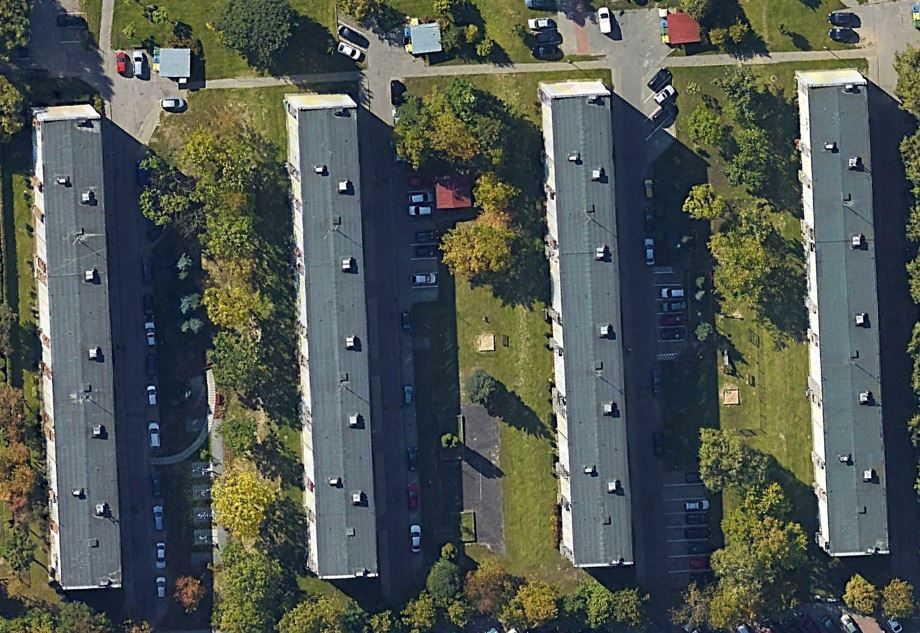block of flats: (793, 63, 893, 562), (535, 71, 635, 570), (279, 83, 379, 582), (26, 94, 126, 593)
